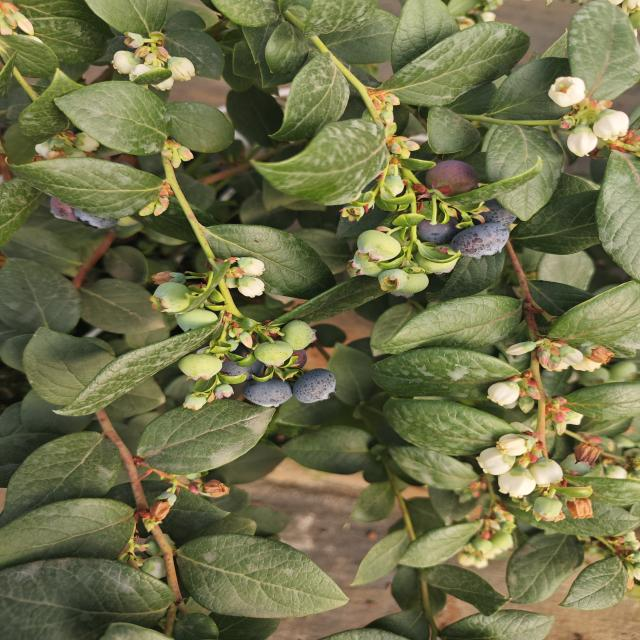ripe: (65, 197, 140, 236), (238, 368, 300, 413), (449, 228, 520, 261), (211, 346, 262, 385), (300, 363, 336, 404), (478, 202, 522, 234), (416, 222, 456, 247)
